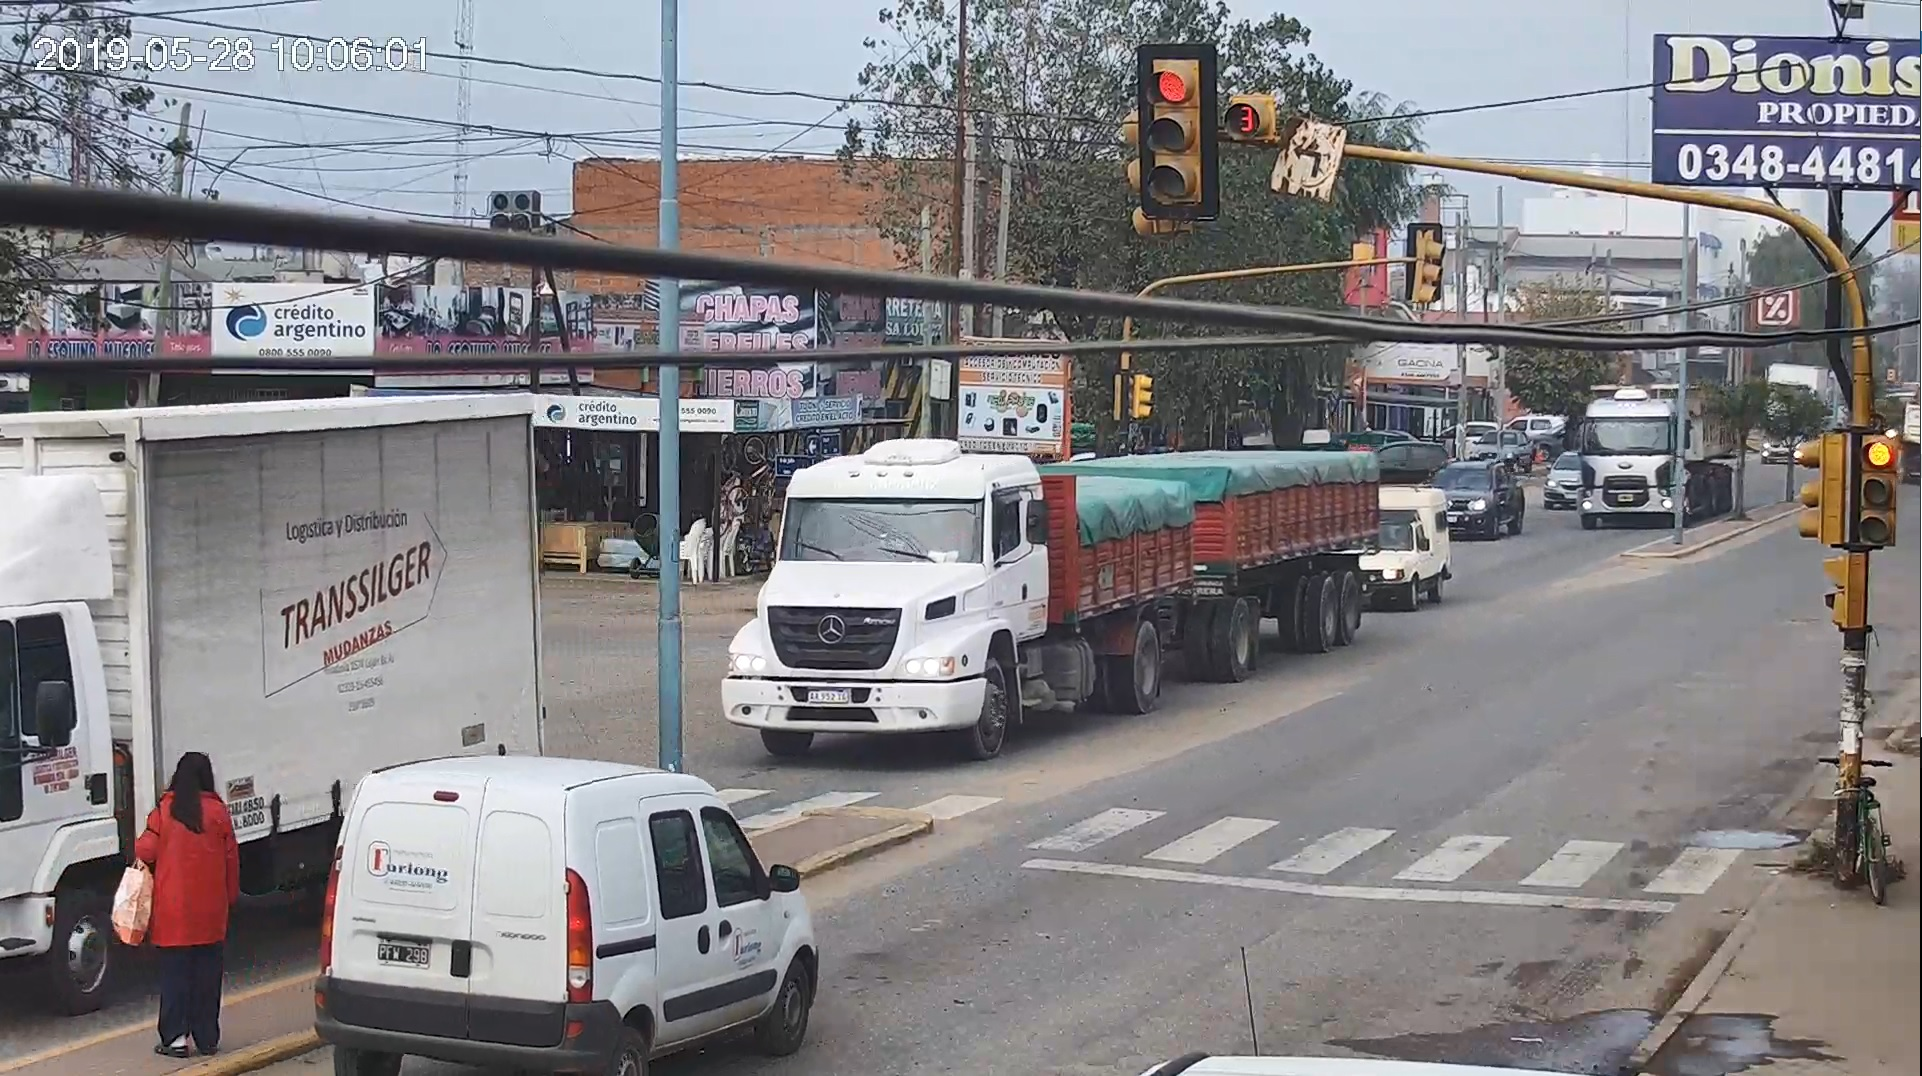car: (304, 735, 842, 1076)
truck: (712, 432, 1379, 768), (1560, 393, 1733, 529)
